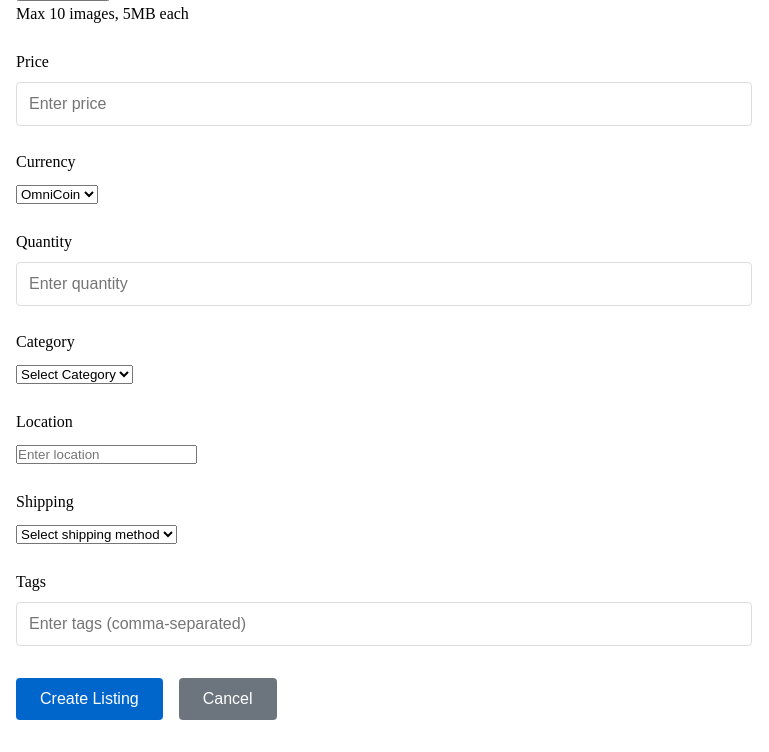
Test: CreateListing › validates required fields
This screenshot has width=769, height=752.
(page scrolled)
Click the button "Create Listing": (89, 699) [16,678,163,720]
(page scrolled)
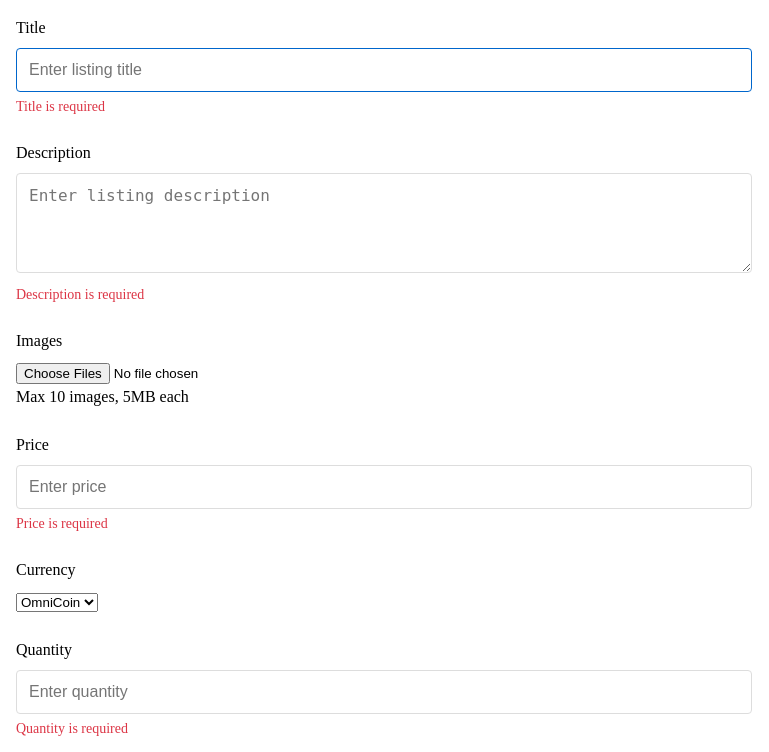
Check: the text "Title is required" is shown, box [16,99,105,114]
